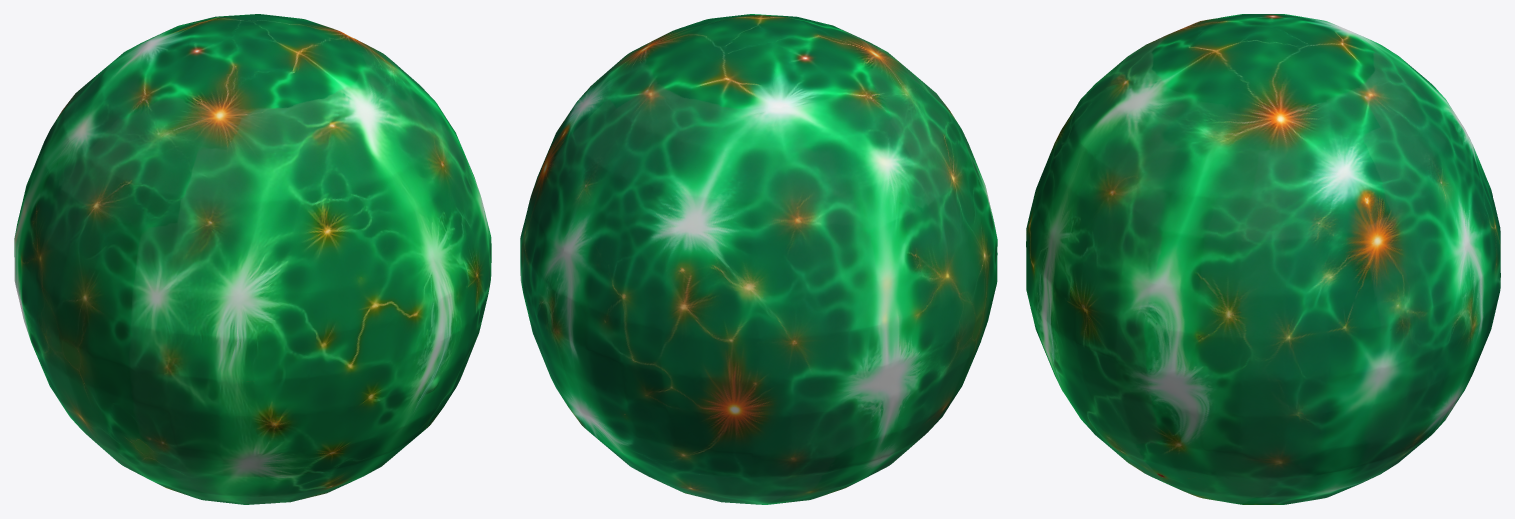
File: main.glb
The picture shows the model from 3 angles, left to right: view 1: azimuth 30°, elevation 25°; view 2: azimuth 150°, elevation 25°; view 3: azimuth 270°, elevation 25°; orthographic projection.
Size of the model in its own units: 1.84 by 1.91 by 1.82.
Materials: 1 (1 with a texture image).
